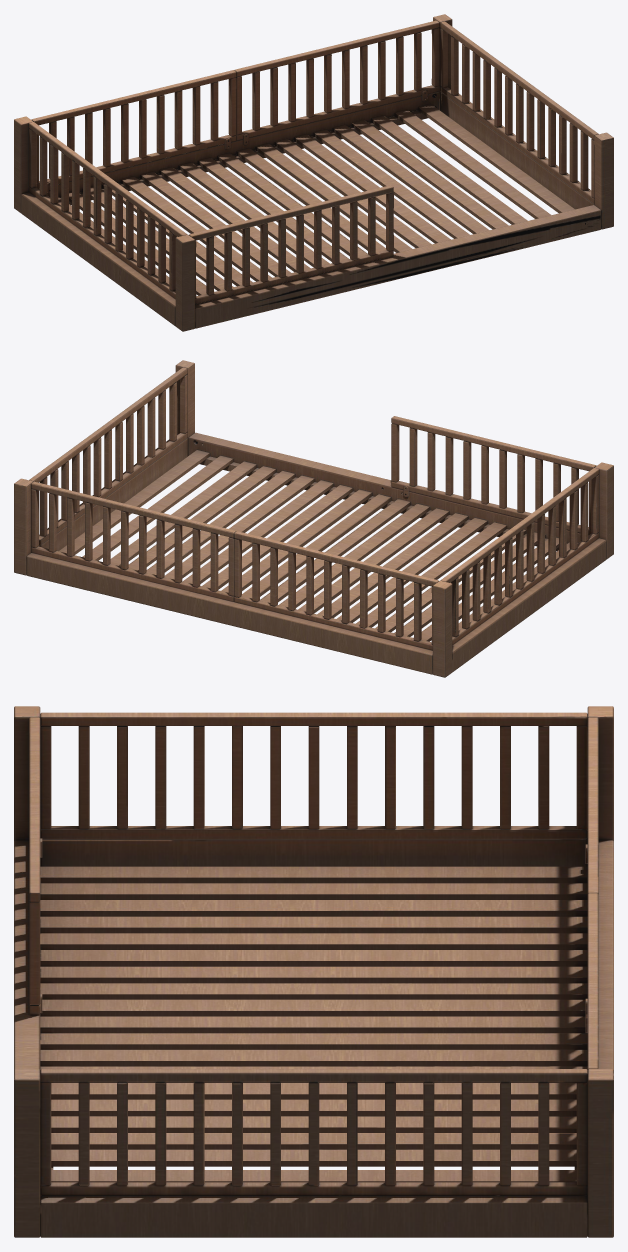
Rendered from letto-125.glb.
3 renders of one model, top to bottom at view 1: azimuth 30°, elevation 25°; view 2: azimuth 150°, elevation 25°; view 3: azimuth 270°, elevation 25°, orthographic. The views are drawn at different scales.
Parts seen in each view (by area): view 1: Letto 125.001; view 2: Letto 125.001; view 3: Letto 125.001.
Part boxes in pixels (x1,y1,x2,y2): Letto 125.001: [14, 14, 613, 331]; Letto 125.001: [14, 360, 613, 677]; Letto 125.001: [14, 706, 613, 1237].
Size of the model in its own units: 2.02 by 0.4 by 1.37.
Materials: 1 (1 with a texture image).
